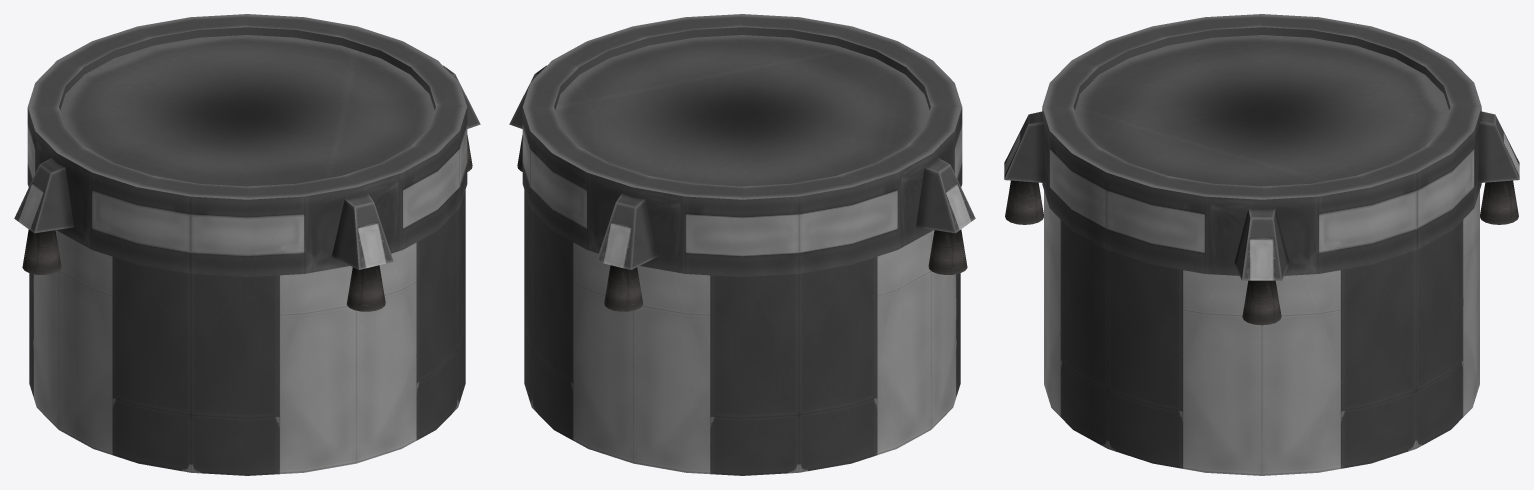
Rendered from LR91_Mod1.dae.
The picture shows the model from 3 angles, left to right: view 1: azimuth 30°, elevation 25°; view 2: azimuth 150°, elevation 25°; view 3: azimuth 270°, elevation 25°; orthographic projection.
Visible parts, largest first — view 1: LR_91_Titan5_TitanEnginePlate, fairing, VernierHousing, VernierHousing3, VernierTransform, VernierTransform_ncl1_3; view 2: LR_91_Titan5_TitanEnginePlate, fairing, VernierHousing2, VernierHousing3, VernierTransform_ncl1_2, VernierTransform_ncl1_3; view 3: LR_91_Titan5_TitanEnginePlate, fairing, VernierHousing1, VernierHousing, VernierHousing2, VernierTransform_ncl1_1, VernierTransform, VernierTransform_ncl1_2.
Part boxes in pixels (left/top/right/bottom): LR_91_Titan5_TitanEnginePlate: left=27, top=14, right=467, bottom=276; fairing: left=29, top=190, right=465, bottom=475; VernierHousing: left=332, top=194, right=393, bottom=269; VernierHousing3: left=14, top=158, right=73, bottom=233; VernierTransform: left=346, top=265, right=385, bottom=311; VernierTransform_ncl1_3: left=22, top=229, right=61, bottom=274; LR_91_Titan5_TitanEnginePlate: left=522, top=14, right=962, bottom=276; fairing: left=524, top=190, right=960, bottom=475; VernierHousing2: left=596, top=194, right=657, bottom=269; VernierHousing3: left=916, top=158, right=975, bottom=233; VernierTransform_ncl1_2: left=604, top=265, right=643, bottom=311; VernierTransform_ncl1_3: left=928, top=229, right=967, bottom=274; LR_91_Titan5_TitanEnginePlate: left=1042, top=14, right=1481, bottom=275; fairing: left=1044, top=190, right=1479, bottom=475; VernierHousing1: left=1234, top=209, right=1289, bottom=280; VernierHousing: left=1004, top=111, right=1045, bottom=182; VernierHousing2: left=1478, top=111, right=1519, bottom=182; VernierTransform_ncl1_1: left=1242, top=280, right=1281, bottom=325; VernierTransform: left=1005, top=180, right=1043, bottom=224; VernierTransform_ncl1_2: left=1480, top=180, right=1518, bottom=224.
Size of the model in its own units: 1.76 by 1.04 by 1.76.
